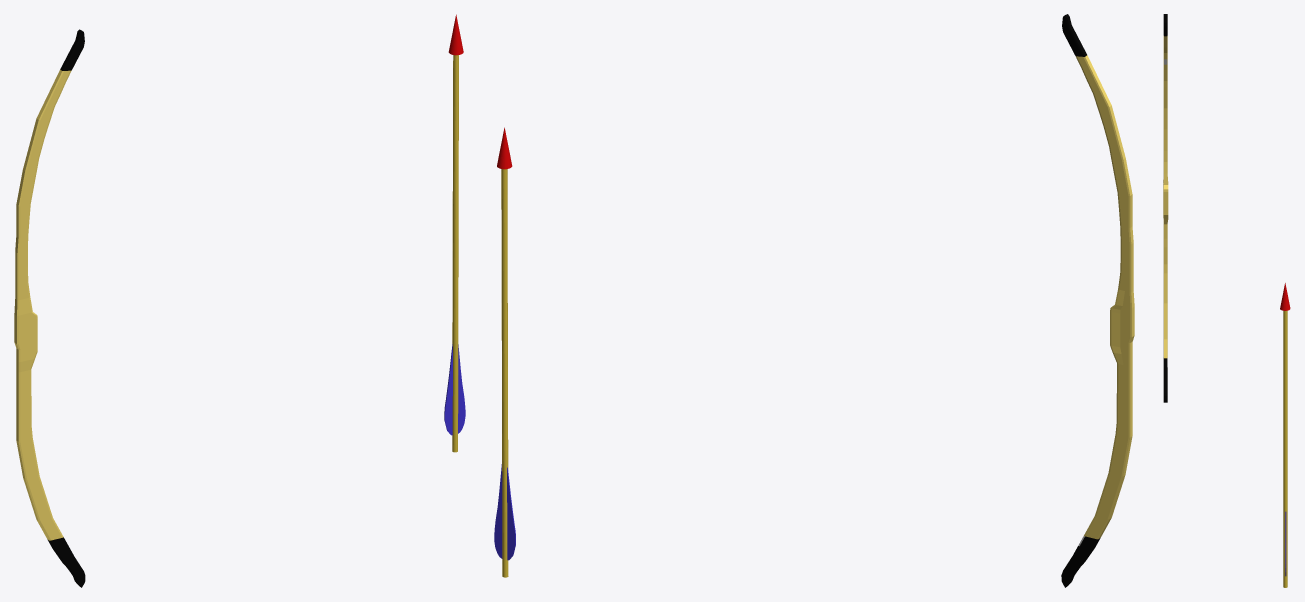
Rendered from Bow And Arrow.fbx.
The picture shows the model from 3 angles, left to right: view 1: azimuth 30°, elevation 25°; view 2: azimuth 150°, elevation 25°; view 3: azimuth 270°, elevation 25°; orthographic projection. The views are drawn at different scales.
Parts seen in each view (by area): view 1: Cube, Cylinder, Plane; view 2: Cube, Cylinder, Plane; view 3: Cube, Cylinder.
Boxes of the visible parts, x1=… form: Cube: x1=14, y1=29, x2=85, y2=587; Cylinder: x1=452, y1=55, x2=458, y2=452; Plane: x1=444, y1=344, x2=465, y2=435; Cube: x1=1061, y1=14, x2=1134, y2=587; Cylinder: x1=501, y1=169, x2=508, y2=577; Plane: x1=494, y1=464, x2=515, y2=560; Cube: x1=1163, y1=14, x2=1168, y2=402; Cylinder: x1=1283, y1=310, x2=1287, y2=587.
Size of the model in its own units: 149 by 159 by 43.89.
